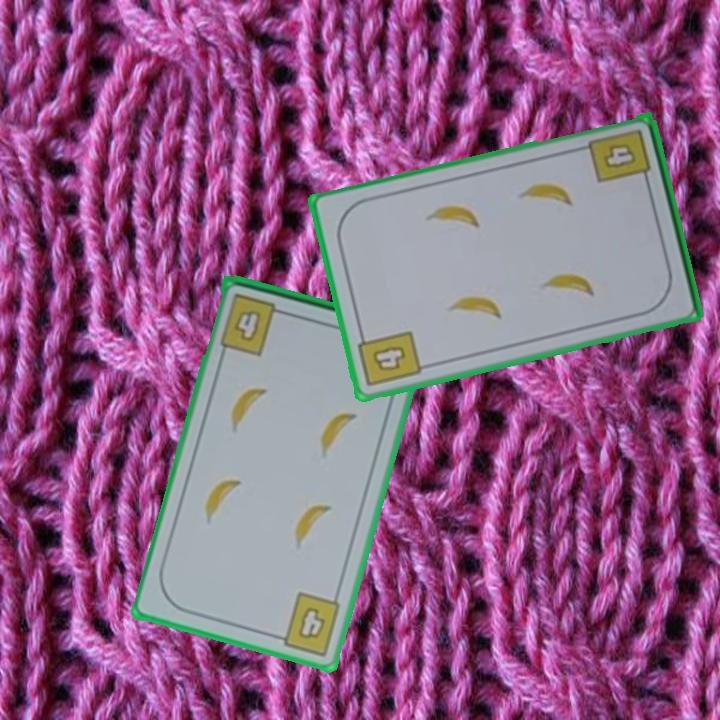4b: (269, 588, 344, 659), (216, 290, 290, 359), (355, 327, 424, 391), (585, 125, 654, 188)
